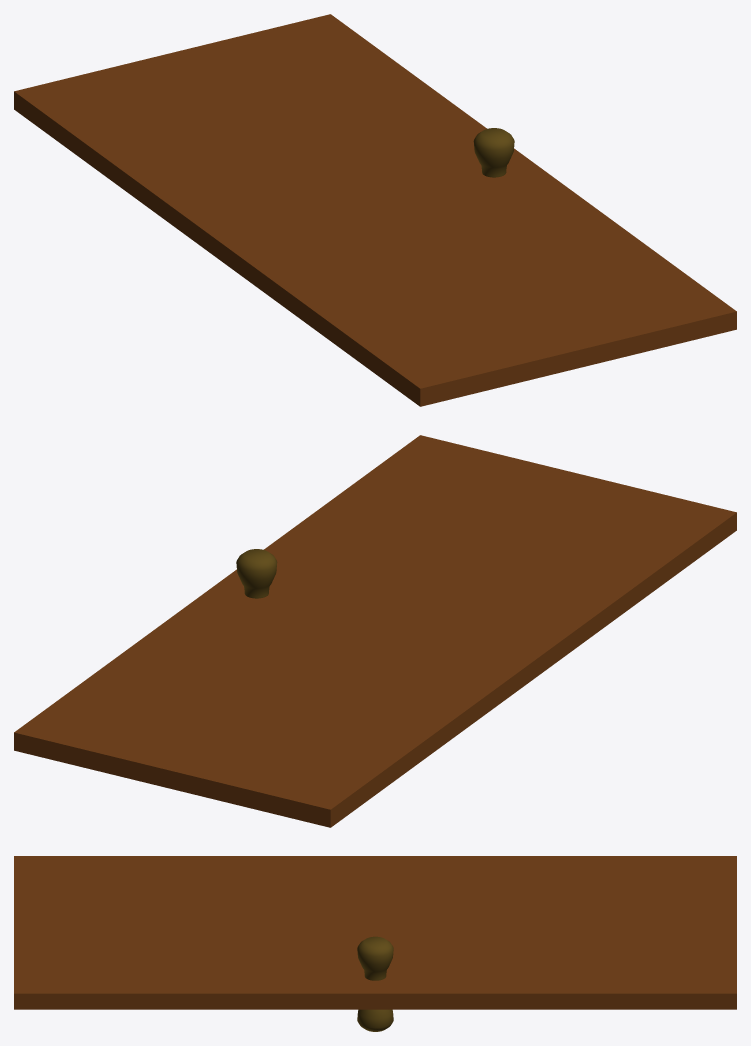
The model's file is Wooden Door.fbx.
3 views of the same model, one above another, from view 1: azimuth 30°, elevation 25°; view 2: azimuth 150°, elevation 25°; view 3: azimuth 270°, elevation 25° (orthographic). The views are drawn at different scales.
Parts seen in each view (by area): view 1: Wooden Door; view 2: Wooden Door; view 3: Wooden Door.
Part boxes in pixels (bbox=[...]): Wooden Door: bbox=[14, 14, 736, 406]; Wooden Door: bbox=[14, 435, 736, 827]; Wooden Door: bbox=[14, 856, 736, 1031].
Size of the model in its own units: 91.44 by 26.55 by 203.
